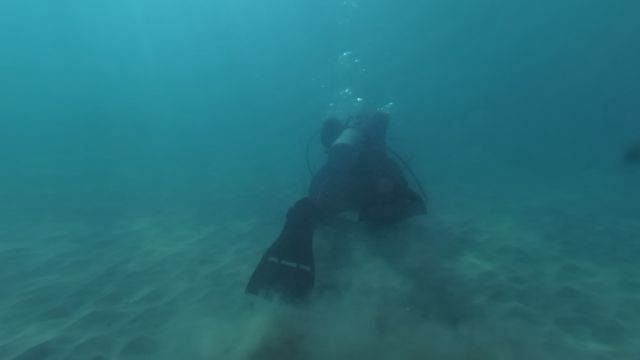Diver: (238, 95, 436, 310)
